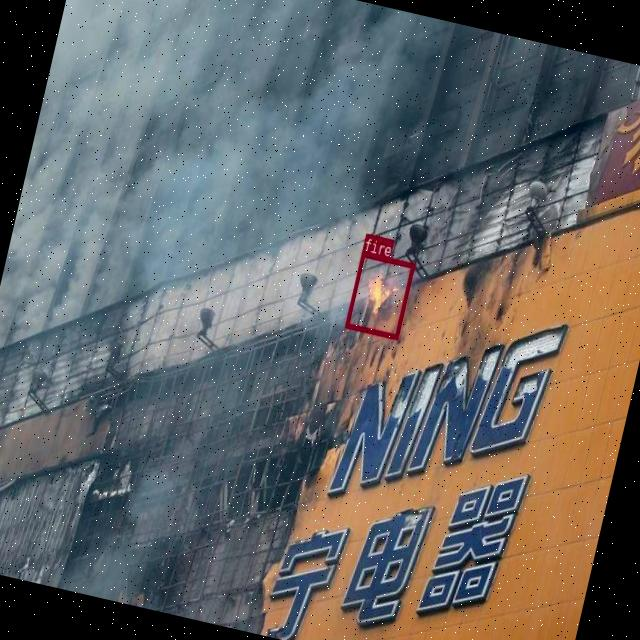fire: (344, 250, 415, 338)
